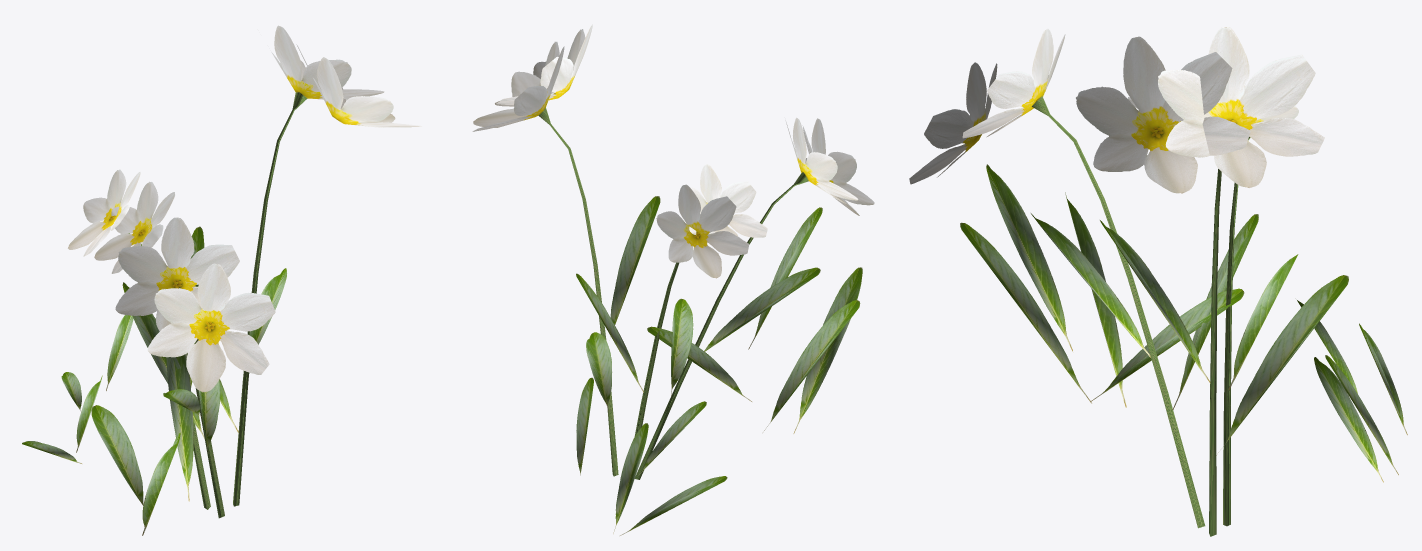
File: grassflowers.fbx
3 renders of one model, left to right at view 1: azimuth 30°, elevation 25°; view 2: azimuth 150°, elevation 25°; view 3: azimuth 270°, elevation 25°, orthographic. The views are drawn at different scales.
Parts seen in each view (by area): view 1: Object_8.035; view 2: Object_8.035; view 3: Object_8.035.
Part boxes in pixels (box(x1,y1,x2,y2)): Object_8.035: box(22, 25, 421, 535); Object_8.035: box(472, 24, 874, 535); Object_8.035: box(909, 27, 1407, 536).
Bounding box in the file's own units: 35.26 × 42.05 × 35.07.
3 materials, 3 textured.
